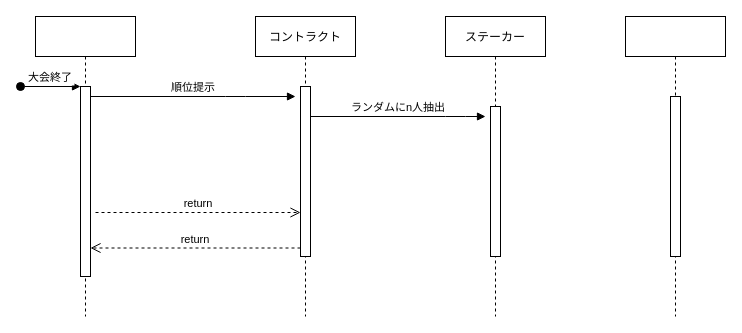
The diagram is 742 pixels wide and 333 high, and some of its shapes have lost their labels. The box of each missing label's shape, as (x1, y1, x2, y2) in pixels:
判定者: (624, 16, 726, 316)
開催者: (34, 16, 136, 316)
